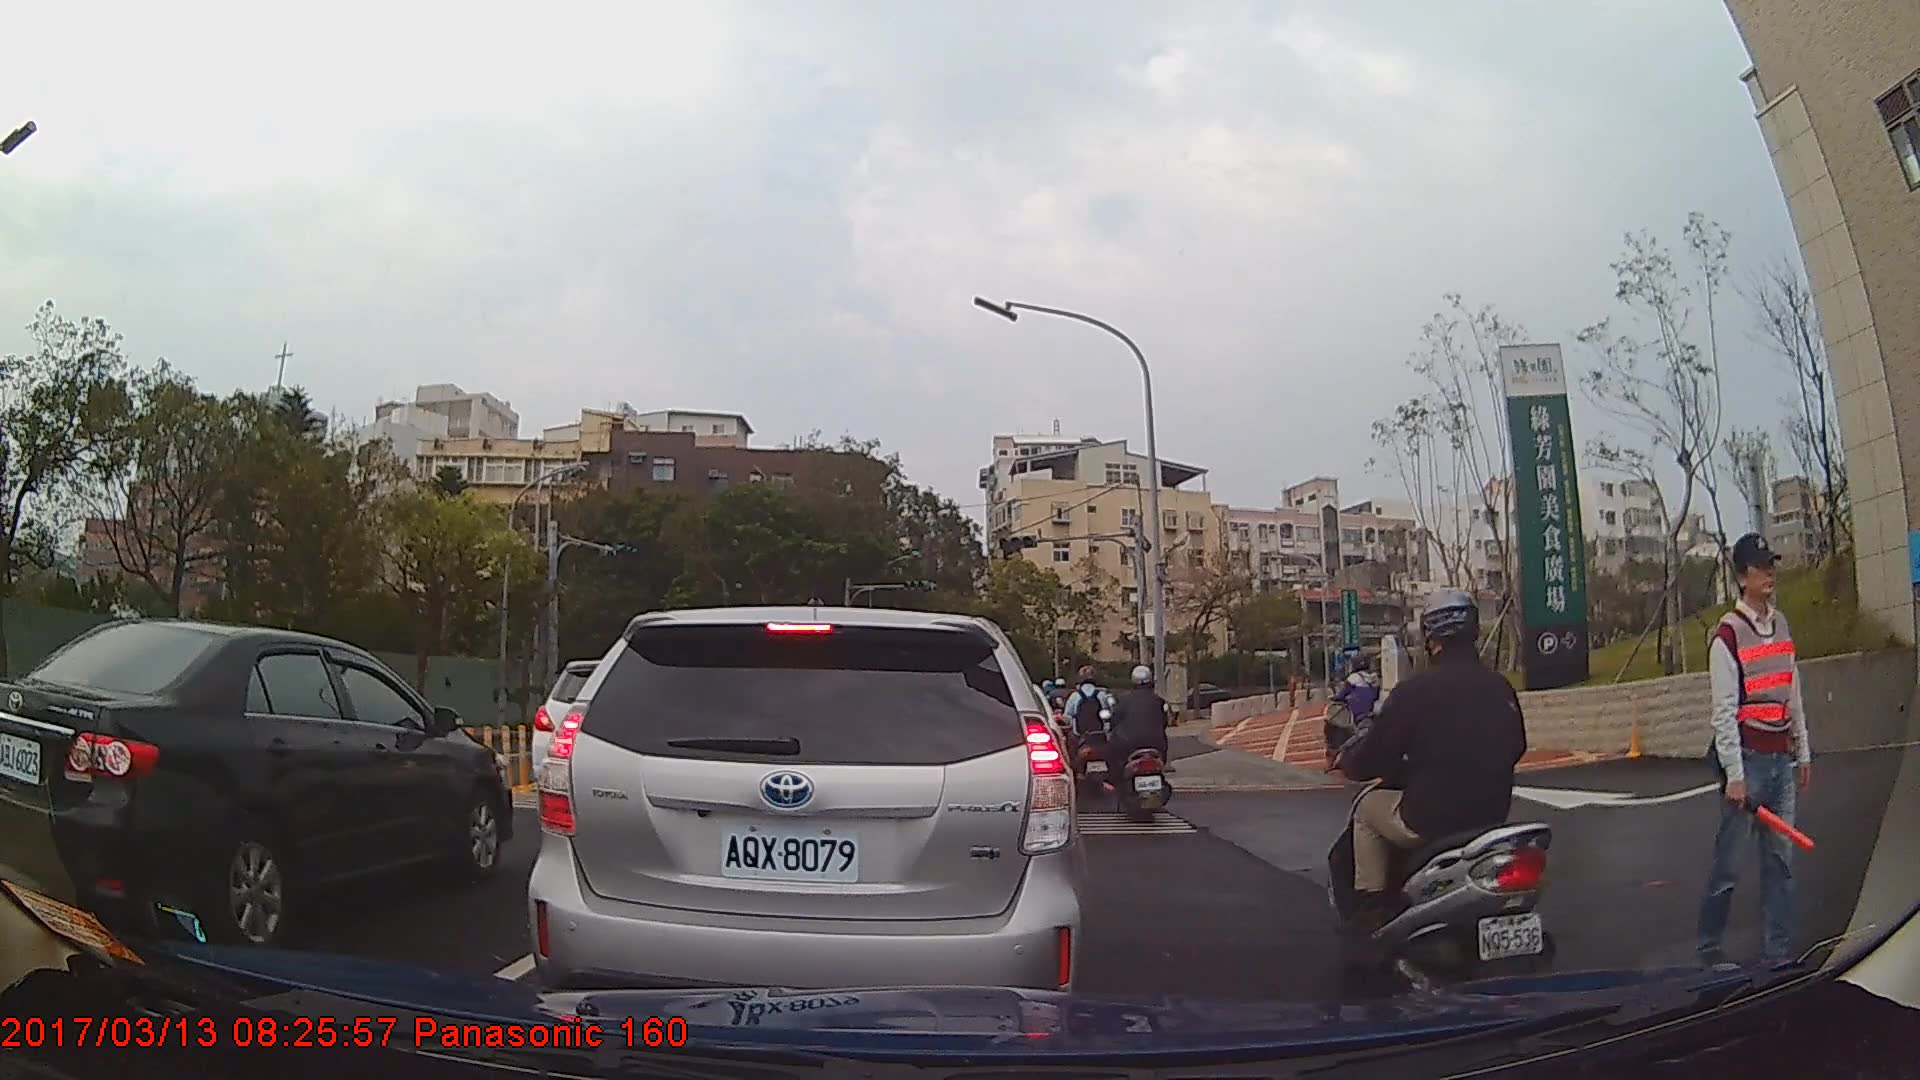pedestrian: (1714, 530, 1832, 975)
rider: (1321, 588, 1564, 1014), (1106, 662, 1175, 830), (1062, 664, 1120, 803), (1324, 654, 1388, 774)
vehicle: (527, 603, 1080, 1029), (0, 616, 511, 947), (1162, 680, 1230, 713)
